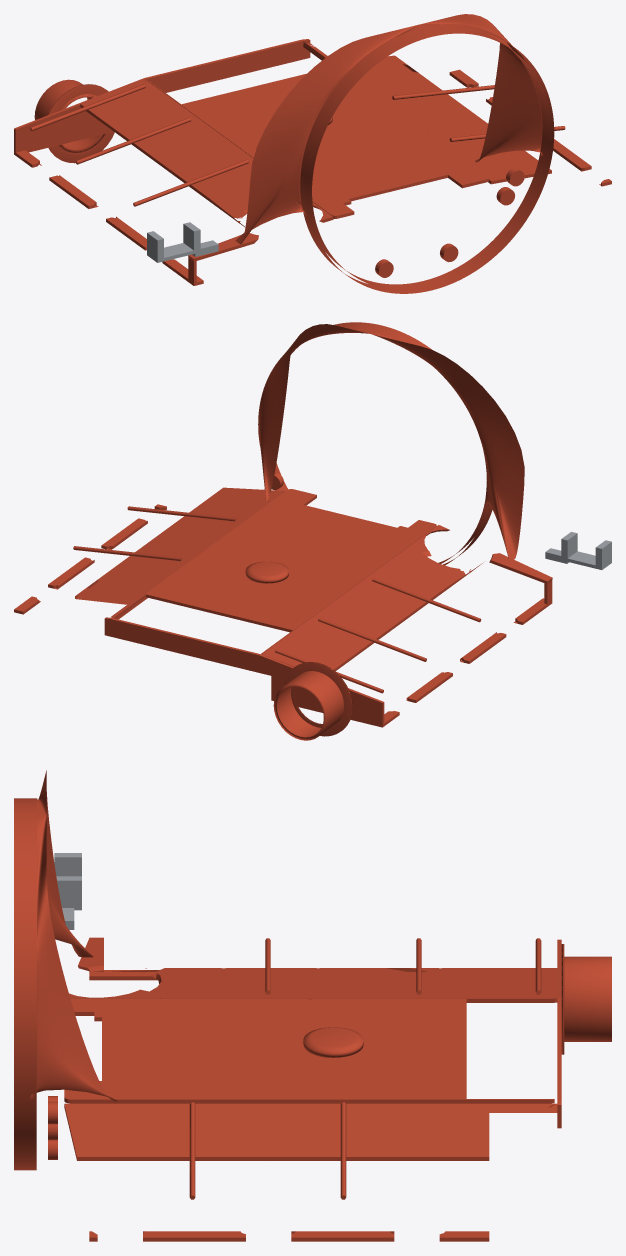
File: upper-air-guide.glb
3 renders of one model, top to bottom at view 1: azimuth 30°, elevation 25°; view 2: azimuth 150°, elevation 25°; view 3: azimuth 270°, elevation 25°, orthographic. The views are drawn at different scales.
Parts seen in each view (by area): view 1: upper-air-guide:shroudRed, upper-air-guide:steel; view 2: upper-air-guide:shroudRed, upper-air-guide:steel; view 3: upper-air-guide:shroudRed, upper-air-guide:steel.
Boxes of the visible parts, x1,y1,x2,y2 form: upper-air-guide:shroudRed: [14, 14, 611, 293]; upper-air-guide:steel: [147, 222, 218, 262]; upper-air-guide:shroudRed: [14, 322, 552, 740]; upper-air-guide:steel: [545, 532, 611, 569]; upper-air-guide:shroudRed: [14, 770, 611, 1241]; upper-air-guide:steel: [54, 853, 81, 929].
Bounding box in the file's own units: 564 × 296 × 476.
